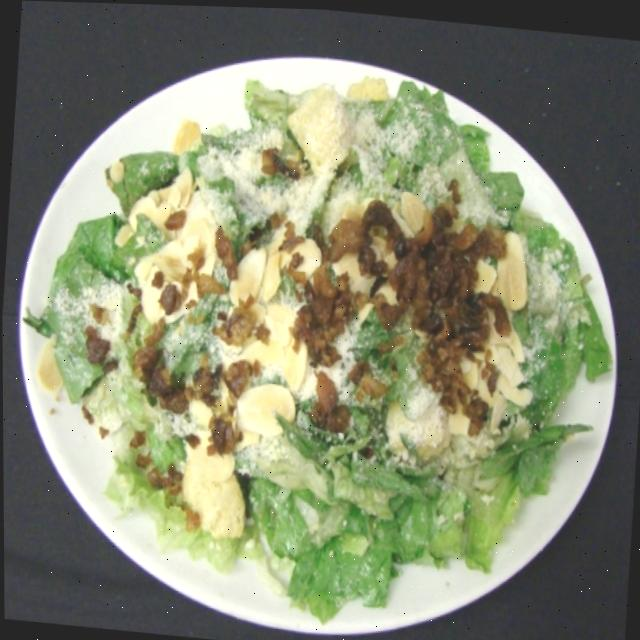蔬菜料理: (6, 29, 630, 640)
